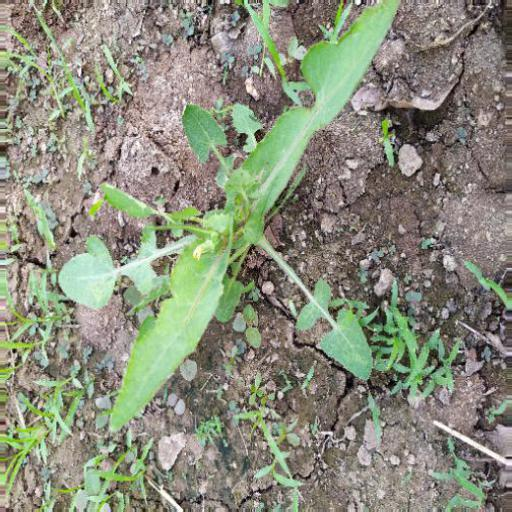crop: (50, 3, 412, 512)
